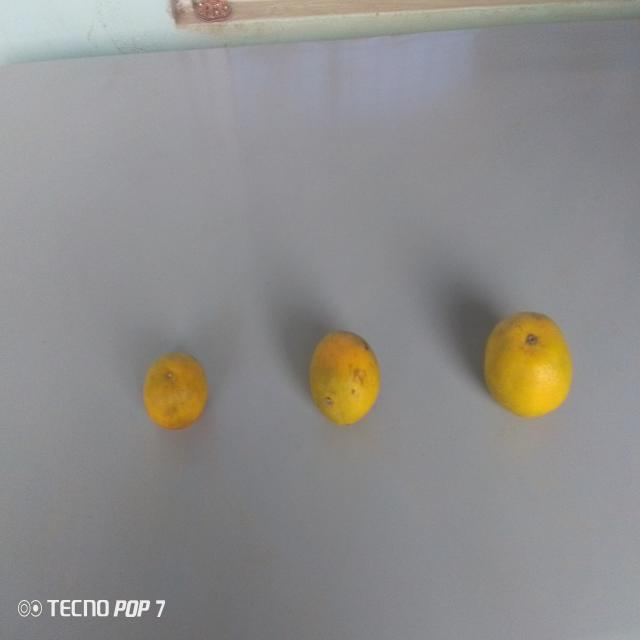Ripe orange: (472, 303, 576, 425), (308, 324, 384, 433), (139, 333, 214, 437)
